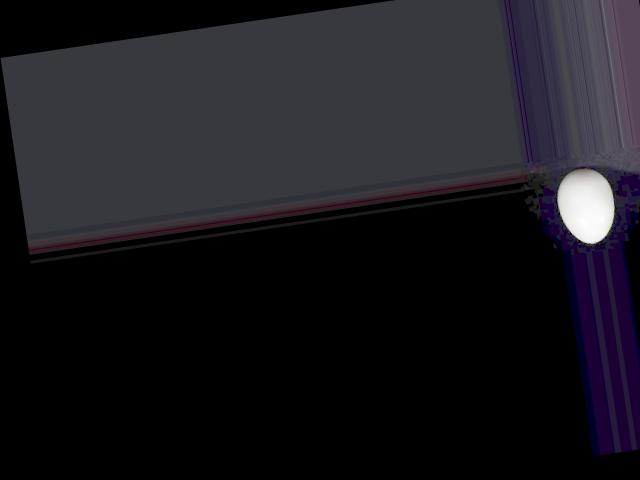egg: (554, 163, 619, 246)
